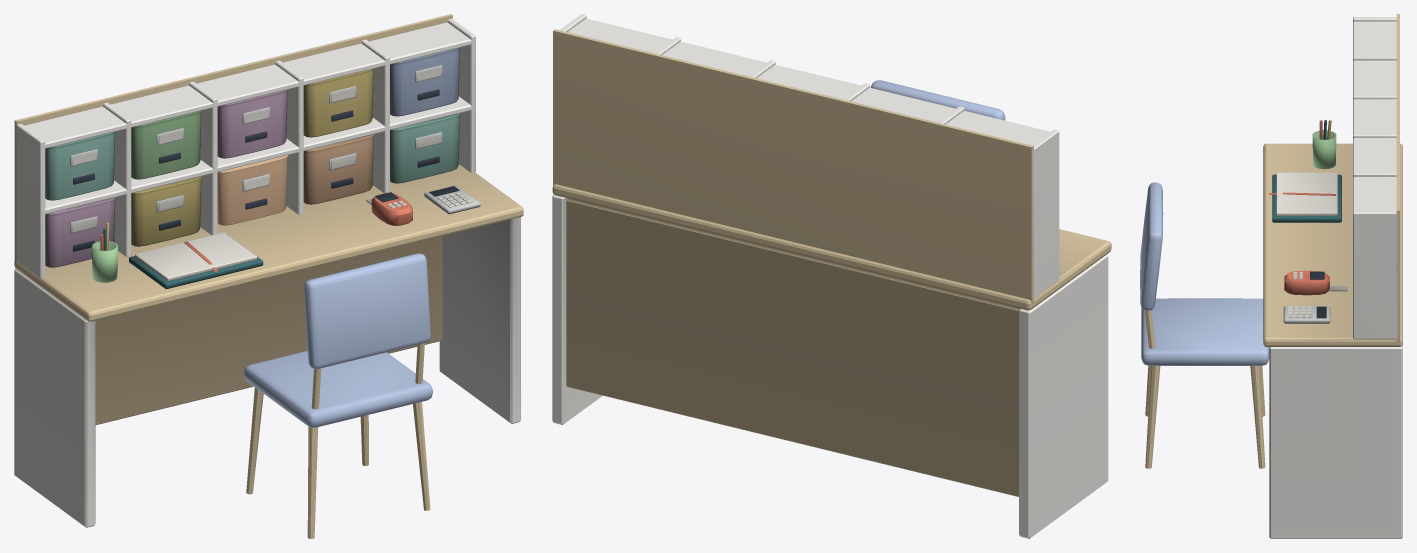
File: organizerDesk.glb
The picture shows the model from 3 angles, left to right: view 1: azimuth 30°, elevation 25°; view 2: azimuth 150°, elevation 25°; view 3: azimuth 270°, elevation 25°; orthographic projection. The views are drawn at different scales.
Parts seen in each view (by area): view 1: body, bin; view 2: body; view 3: body.
Boxes of the visible parts, bbox=[...] form: body: bbox=[14, 14, 523, 538]; bin: bbox=[217, 155, 288, 225]; body: bbox=[552, 14, 1111, 538]; body: bbox=[1140, 14, 1402, 538].
Size of the model in its own units: 1.6 by 1.25 by 0.9049.
